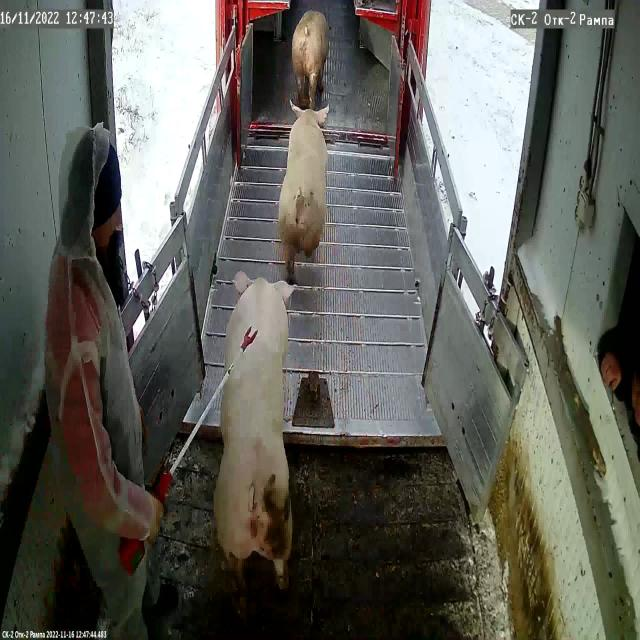pig: (216, 272, 293, 578), (278, 106, 328, 267), (292, 11, 329, 99)
